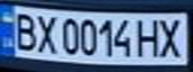0: (57, 15, 81, 56), (78, 16, 96, 56)
1: (96, 16, 115, 57)
4: (112, 16, 136, 57)
B: (9, 9, 39, 52)
H: (133, 16, 163, 58)
X: (154, 15, 187, 58), (33, 11, 60, 54)
